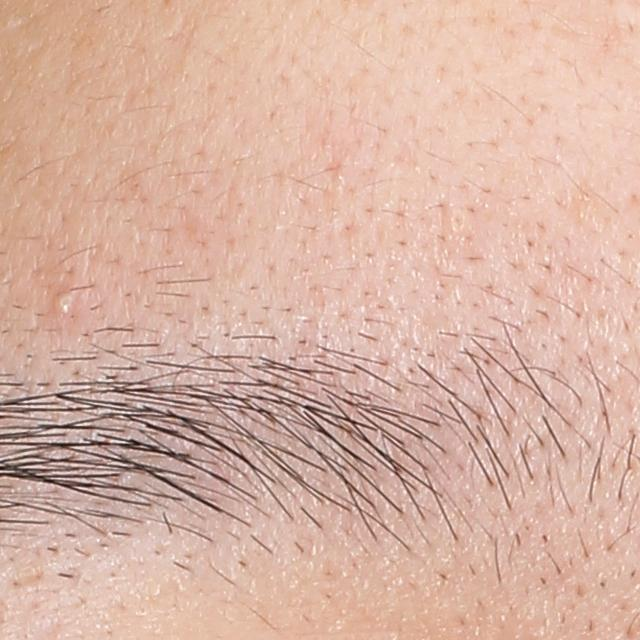pustule: (49, 288, 80, 320)
